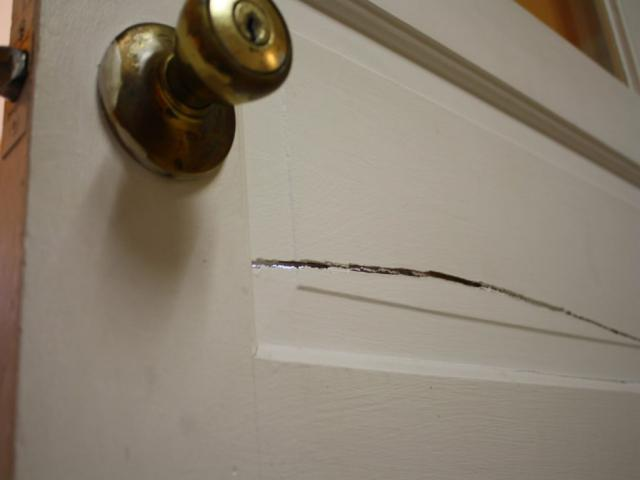Door-handle: (96, 0, 294, 183)
